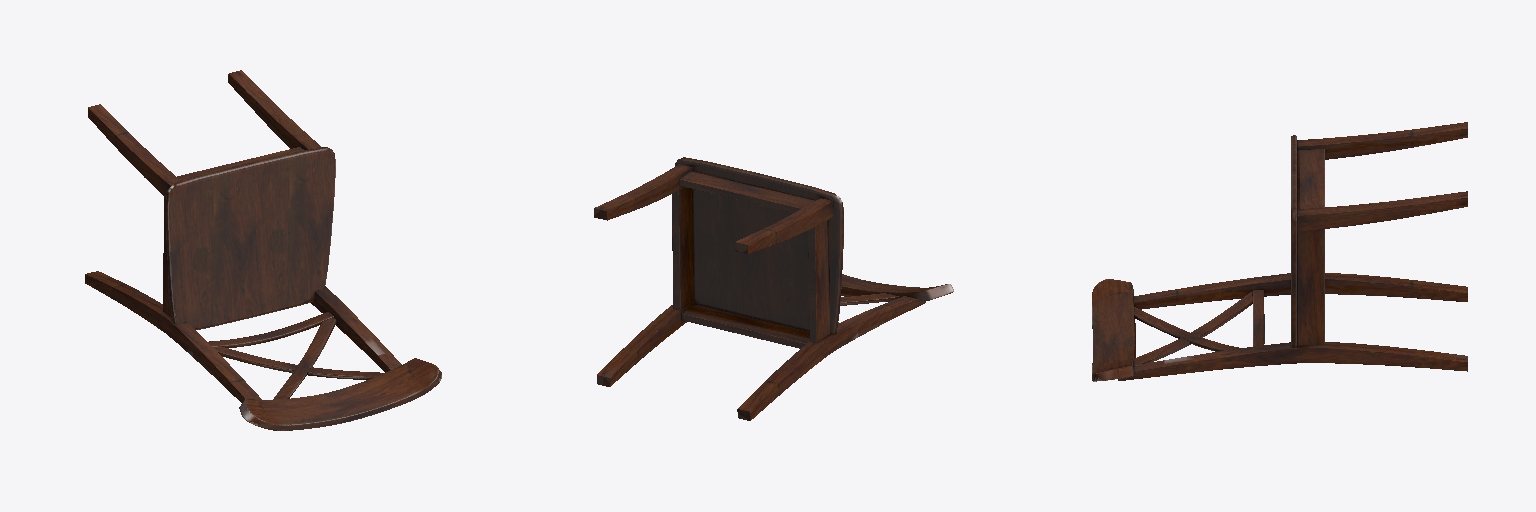
The picture shows the model from 3 angles: view 1: azimuth 30°, elevation 25°; view 2: azimuth 150°, elevation 25°; view 3: azimuth 270°, elevation 25°; orthographic projection.
Bounding box in the file's own units: 0.5106 × 0.4861 × 0.8475.
Materials: 1 (1 with a texture image).